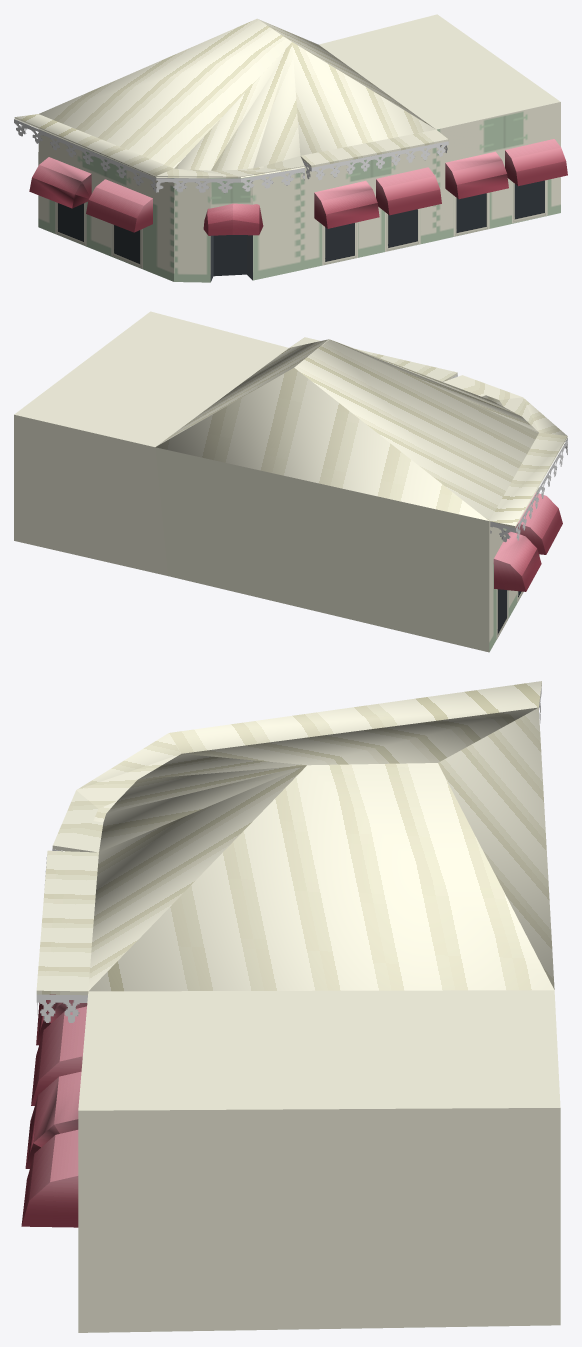
Rendered from Bagagiste 1.fbx.
3 views of the same model, one above another, from view 1: azimuth 30°, elevation 25°; view 2: azimuth 150°, elevation 25°; view 3: azimuth 270°, elevation 25° (orthographic). The views are drawn at different scales.
Visible parts, largest first — view 1: Le_Bagagiste, Le_Bagagiste.001, Plane.040, Plane.014; view 2: Le_Bagagiste, Le_Bagagiste.001, Plane.014, Plane.040; view 3: Le_Bagagiste, Le_Bagagiste.001, Plane.014.
Boxes of the visible parts, left/top/right/bottom form: Le_Bagagiste: left=14, top=14, right=560, bottom=282; Le_Bagagiste.001: left=29, top=139, right=567, bottom=235; Plane.040: left=55, top=180, right=547, bottom=268; Plane.014: left=14, top=119, right=448, bottom=193; Le_Bagagiste: left=14, top=311, right=567, bottom=652; Le_Bagagiste.001: left=493, top=492, right=562, bottom=591; Plane.014: left=450, top=375, right=567, bottom=542; Plane.040: left=496, top=589, right=523, bottom=639; Le_Bagagiste: left=36, top=681, right=560, bottom=1332; Le_Bagagiste.001: left=21, top=994, right=87, bottom=1227; Plane.014: left=36, top=689, right=541, bottom=1022.
Size of the model in its own units: 1970 by 789 by 1067.
